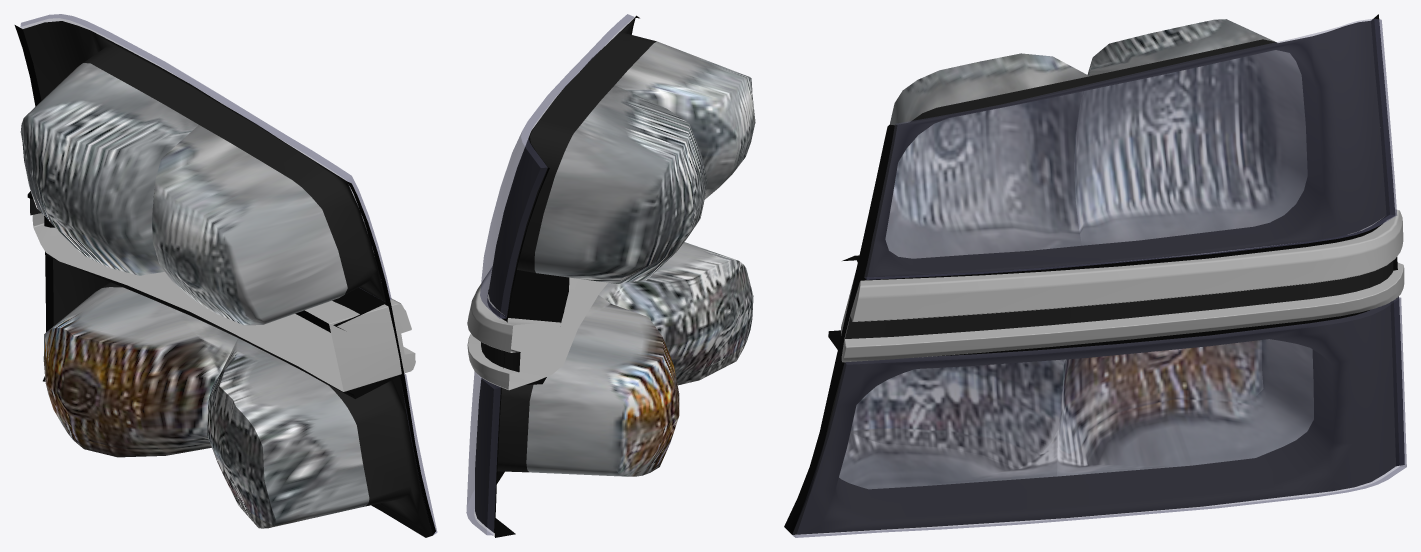
The picture shows the model from 3 angles, left to right: view 1: azimuth 30°, elevation 25°; view 2: azimuth 150°, elevation 25°; view 3: azimuth 270°, elevation 25°; orthographic projection. The views are drawn at different scales.
Visible parts, largest first — view 1: U805_4A_061B_L_U805_4A_061B_L_5_N, U805_4A_061B_L_U805_4A_061B_L_4_N, U805_4A_061B_L_U805_4A_061B_L_1_DaS, U805_4A_061B_L_U805_4A_061B_L_7_D, U805_4A_061B_L_U805_4A_061B_L_3_DTaSI, U805_4A_061B_L_2_DTaSI_U805_4A_061B_L; view 2: U805_4A_061B_L_U805_4A_061B_L_5_N, U805_4A_061B_L_U805_4A_061B_L_4_N, U805_4A_061B_L_U805_4A_061B_L_1_DaS, U805_4A_061B_L_U805_4A_061B_L_3_DTaSI, U805_4A_061B_L_2_DTaSI_U805_4A_061B_L, U805_4A_061B_L_U805_4A_061B_L_7_D, U805_4A_061B_L_U805_4A_061B_L_6_D; view 3: U805_4A_061B_L_U805_4A_061B_L_5_N, U805_4A_061B_L_2_DTaSI_U805_4A_061B_L, U805_4A_061B_L_U805_4A_061B_L_3_DTaSI, U805_4A_061B_L_U805_4A_061B_L_4_N, U805_4A_061B_L_U805_4A_061B_L_1_DaS, U805_4A_061B_L_U805_4A_061B_L_7_D, U805_4A_061B_L_U805_4A_061B_L_6_D.
Boxes of the visible parts, bbox=[...] form: U805_4A_061B_L_U805_4A_061B_L_5_N: bbox=[20, 21, 369, 528]; U805_4A_061B_L_U805_4A_061B_L_4_N: bbox=[27, 26, 432, 535]; U805_4A_061B_L_U805_4A_061B_L_1_DaS: bbox=[32, 213, 415, 391]; U805_4A_061B_L_U805_4A_061B_L_7_D: bbox=[14, 25, 435, 537]; U805_4A_061B_L_U805_4A_061B_L_3_DTaSI: bbox=[20, 14, 391, 299]; U805_4A_061B_L_2_DTaSI_U805_4A_061B_L: bbox=[404, 373, 437, 534]; U805_4A_061B_L_U805_4A_061B_L_5_N: bbox=[475, 41, 755, 532]; U805_4A_061B_L_U805_4A_061B_L_4_N: bbox=[480, 18, 656, 472]; U805_4A_061B_L_U805_4A_061B_L_1_DaS: bbox=[467, 267, 607, 390]; U805_4A_061B_L_U805_4A_061B_L_3_DTaSI: bbox=[480, 14, 634, 318]; U805_4A_061B_L_2_DTaSI_U805_4A_061B_L: bbox=[466, 371, 500, 535]; U805_4A_061B_L_U805_4A_061B_L_7_D: bbox=[487, 15, 639, 537]; U805_4A_061B_L_U805_4A_061B_L_6_D: bbox=[481, 342, 520, 372]; U805_4A_061B_L_U805_4A_061B_L_5_N: bbox=[839, 19, 1395, 489]; U805_4A_061B_L_2_DTaSI_U805_4A_061B_L: bbox=[792, 297, 1406, 537]; U805_4A_061B_L_U805_4A_061B_L_3_DTaSI: bbox=[864, 18, 1396, 279]; U805_4A_061B_L_U805_4A_061B_L_4_N: bbox=[792, 32, 1354, 534]; U805_4A_061B_L_U805_4A_061B_L_1_DaS: bbox=[841, 209, 1404, 362]; U805_4A_061B_L_U805_4A_061B_L_7_D: bbox=[784, 14, 1404, 534]; U805_4A_061B_L_U805_4A_061B_L_6_D: bbox=[845, 261, 1393, 338].
Size of the model in its own units: 17.64 by 27.74 by 35.77.
